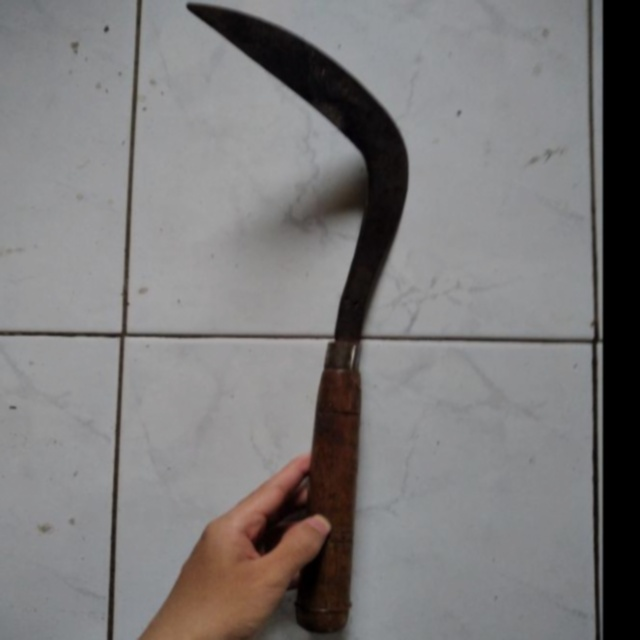Sharp-Object: (162, 0, 434, 640)
